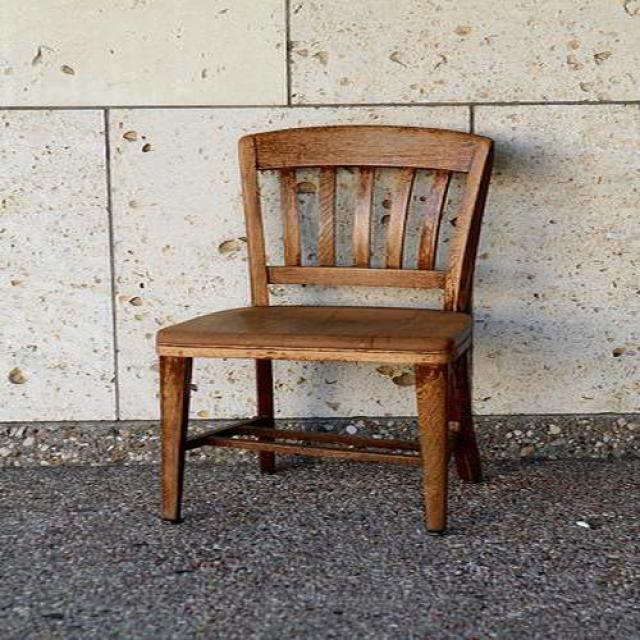chair: (157, 125, 495, 535)
